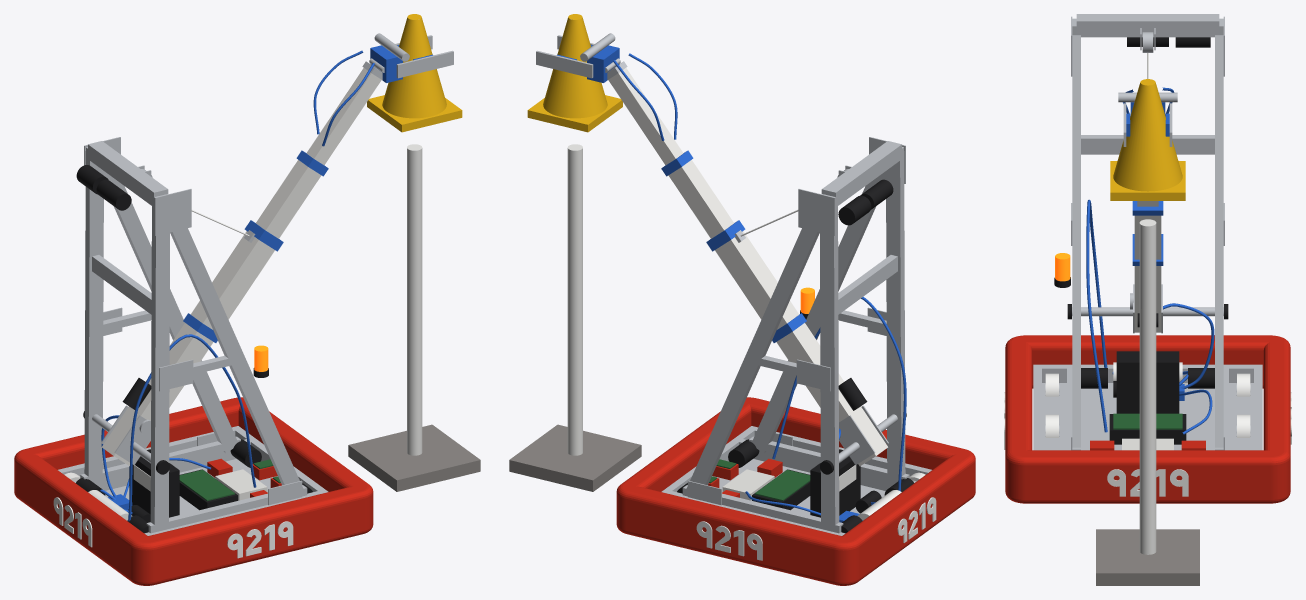
Rendered from tank-tails.glb.
3 renders of one model, left to right at view 1: azimuth 30°, elevation 25°; view 2: azimuth 150°, elevation 25°; view 3: azimuth 270°, elevation 25°, orthographic. The views are drawn at different scales.
Visible parts, largest first — view 1: bumper_ring, tower_upright_R, tower_upright_L, scoring_pole_base, tower_diagonal_R, arm_stage1_tube, scoring_pole, cone_body, tower_diagonal_L, arm_stage2_tube, arm_stage3_tube, tower_top_crossbar (+23 smaller); view 2: bumper_ring, tower_upright_L, tower_upright_R, scoring_pole_base, arm_stage1_tube, tower_diagonal_L, scoring_pole, cone_body, tower_diagonal_R, arm_stage2_tube, arm_stage3_tube, tower_top_crossbar (+22 smaller); view 3: bumper_ring, scoring_pole, bellypan, scoring_pole_base, cone_body, tower_diagonal_R, tower_diagonal_L, tower_top_crossbar, battery, tower_mid_crossbar, air_line_arch, arm_stage1_tube (+18 smaller).
Part boxes in pixels (<box>): bumper_ring: <box>14,397,373,585</box>; tower_upright_R: <box>150,194,169,532</box>; tower_upright_L: <box>84,147,103,482</box>; scoring_pole_base: <box>348,424,480,491</box>; tower_diagonal_R: <box>170,228,304,494</box>; arm_stage1_tube: <box>102,231,274,465</box>; scoring_pole: <box>407,144,422,455</box>; cone_body: <box>382,17,446,118</box>; tower_diagonal_L: <box>100,168,237,453</box>; arm_stage2_tube: <box>256,160,321,238</box>; arm_stage3_tube: <box>306,68,381,165</box>; tower_top_crossbar: <box>88,141,168,205</box>; bumper_ring: <box>616,397,975,585</box>; tower_upright_L: <box>820,194,839,532</box>; tower_upright_R: <box>886,147,905,482</box>; scoring_pole_base: <box>509,424,641,491</box>; arm_stage1_tube: <box>715,231,887,466</box>; tower_diagonal_L: <box>685,228,819,494</box>; scoring_pole: <box>567,144,582,455</box>; cone_body: <box>543,17,607,118</box>; tower_diagonal_R: <box>752,171,885,453</box>; arm_stage2_tube: <box>668,160,733,238</box>; arm_stage3_tube: <box>608,68,683,165</box>; tower_top_crossbar: <box>821,141,901,205</box>; bumper_ring: <box>1005,335,1290,503</box>; scoring_pole: <box>1139,219,1156,554</box>; bellypan: <box>1042,383,1253,450</box>; scoring_pole_base: <box>1096,529,1199,585</box>; cone_body: <box>1113,83,1182,191</box>; tower_diagonal_R: <box>1072,35,1080,447</box>; tower_diagonal_L: <box>1215,35,1223,447</box>; tower_top_crossbar: <box>1076,14,1219,37</box>; battery: <box>1116,351,1179,413</box>; tower_mid_crossbar: <box>1081,135,1214,154</box>; air_line_arch: <box>1086,199,1107,432</box>; arm_stage1_tube: <box>1134,215,1161,332</box>.
Bounding box in the file's own units: 1.37 × 1.53 × 0.8278.
